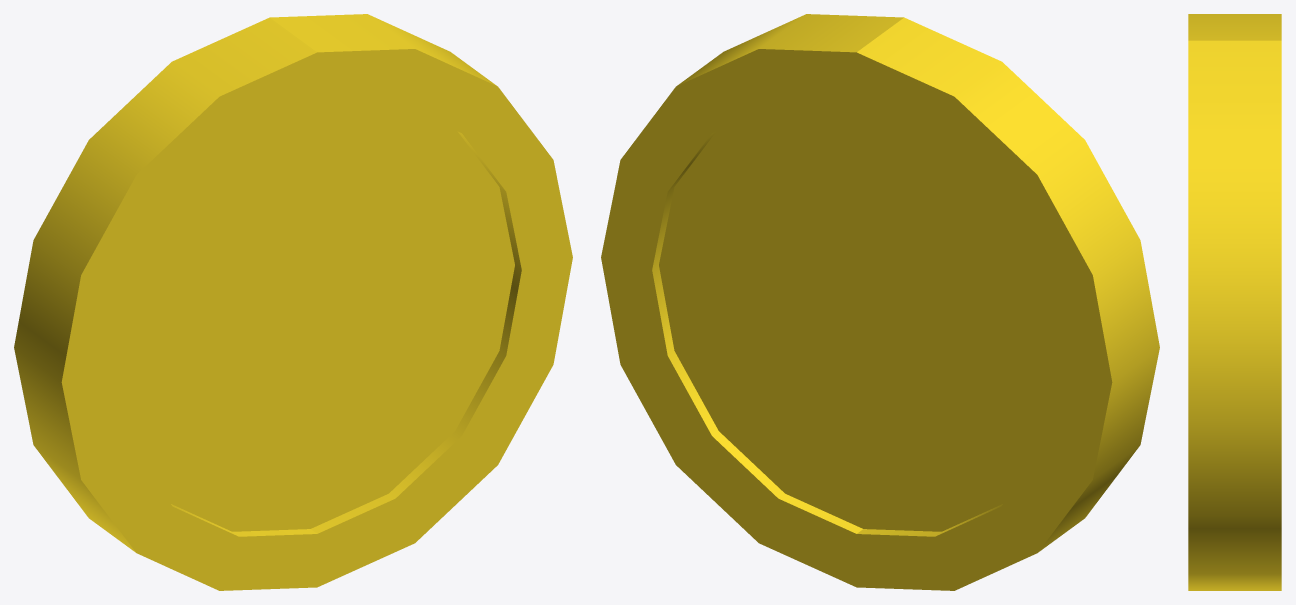
File: Piece1.fbx
3 views of the same model, side by side, from view 1: azimuth 30°, elevation 25°; view 2: azimuth 150°, elevation 25°; view 3: azimuth 270°, elevation 25° (orthographic). The views are drawn at different scales.
Visible parts, largest first — view 1: Cylinder.001; view 2: Cylinder.001; view 3: Cylinder.001.
Part boxes in pixels (x1,y1,x2,y2): Cylinder.001: (14, 14, 572, 590); Cylinder.001: (601, 14, 1159, 590); Cylinder.001: (1188, 14, 1281, 590).
Size of the model in its own units: 267 by 267 by 43.19.
